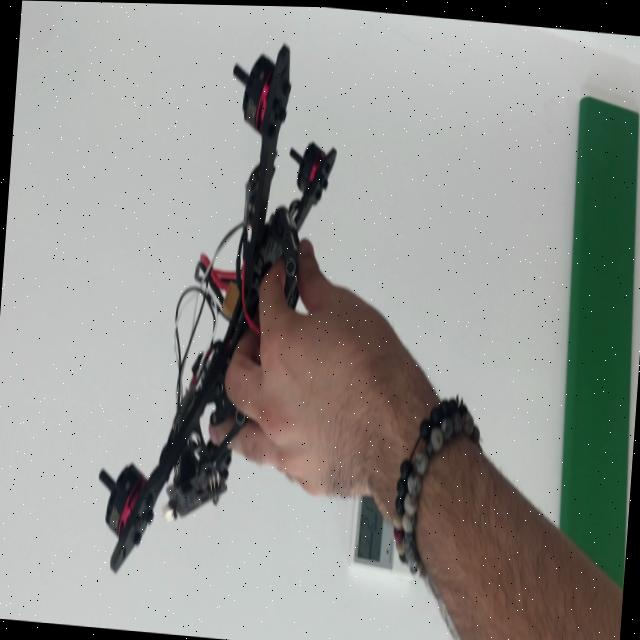drone: (91, 22, 345, 608)
